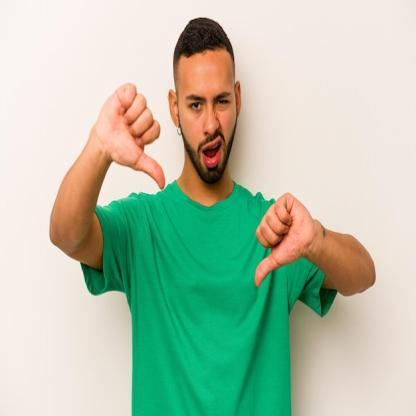thumb_down: (92, 77, 168, 192), (252, 188, 318, 289)
